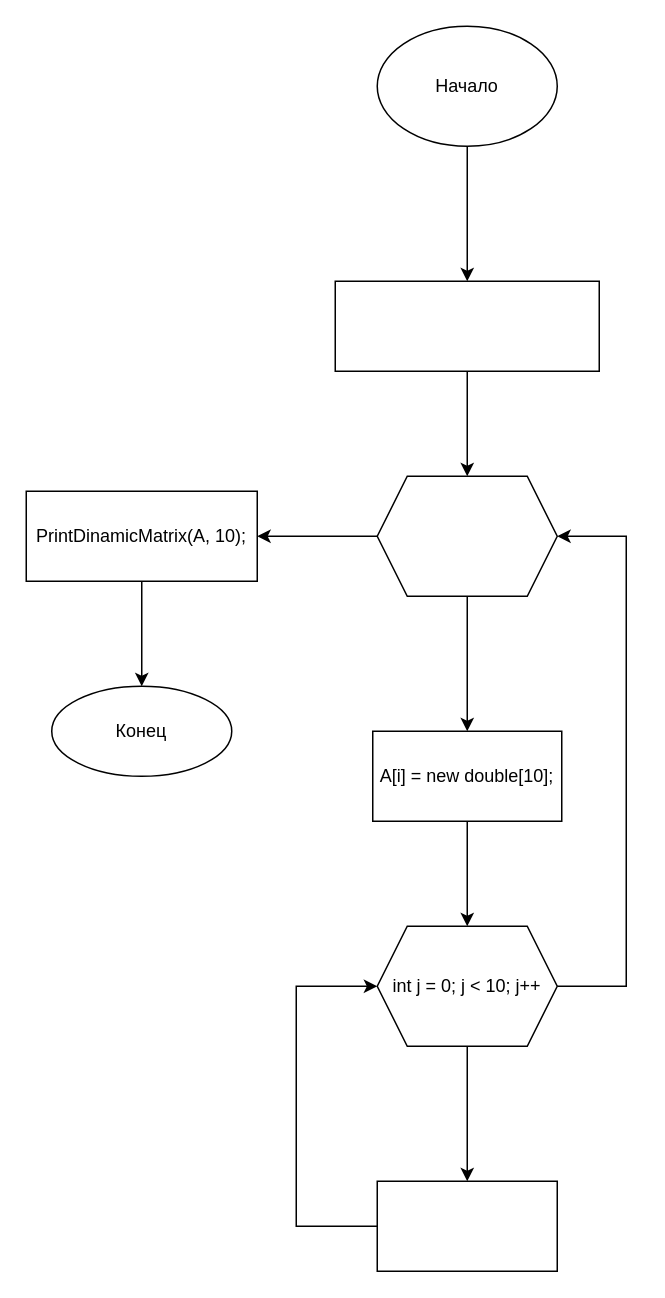
The diagram is 665 pixels wide and 1298 high, and some of its shapes have lost their labels. The shapes that lost their labels are listed below. From the top down, each one's box as (x1, y1, x2, y2) in pixels, then its label:
(334, 280, 599, 371): double** A = new double* [10];
(376, 475, 557, 596): int i = 0; i < 10; i++
(376, 1180, 557, 1271): A[i][j] = B[i][j];
